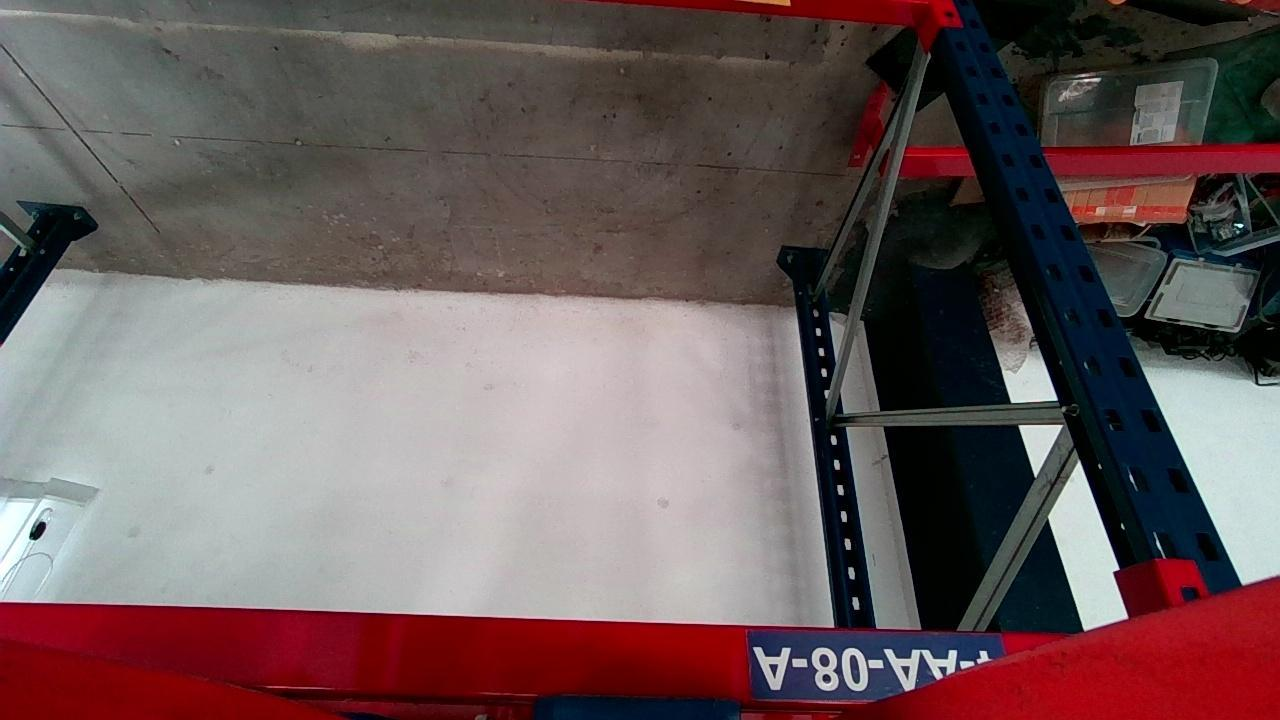h_rack: (241, 18, 1280, 117)
